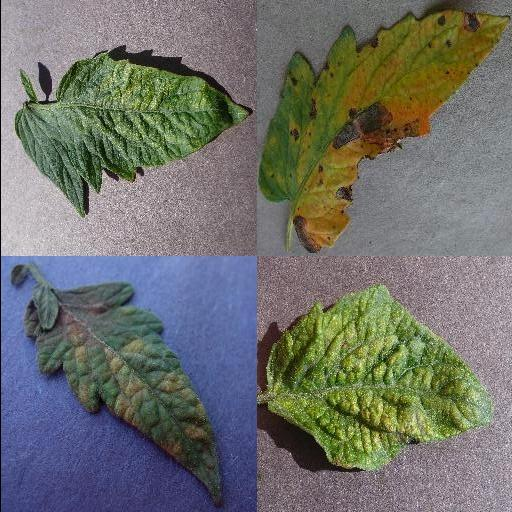Early Blight: (256, 12, 512, 254)
Leaf Mold: (24, 286, 224, 508)
Spider Mites: (265, 285, 495, 473), (13, 49, 251, 215)
